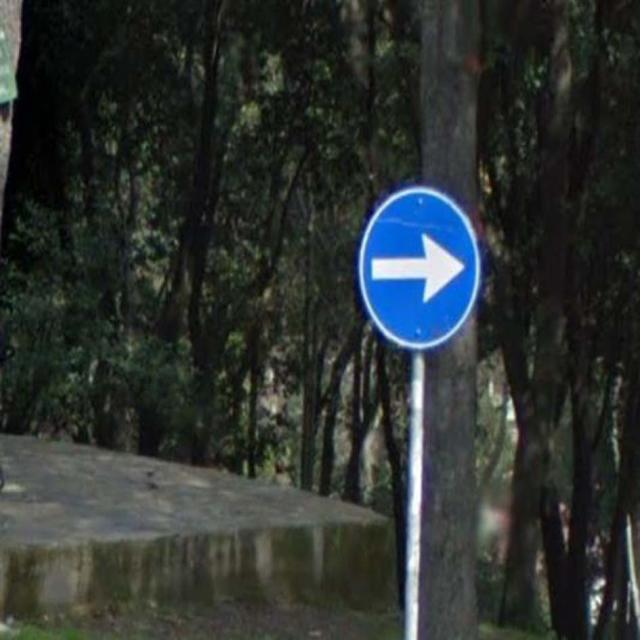sag: (356, 181, 478, 352)
